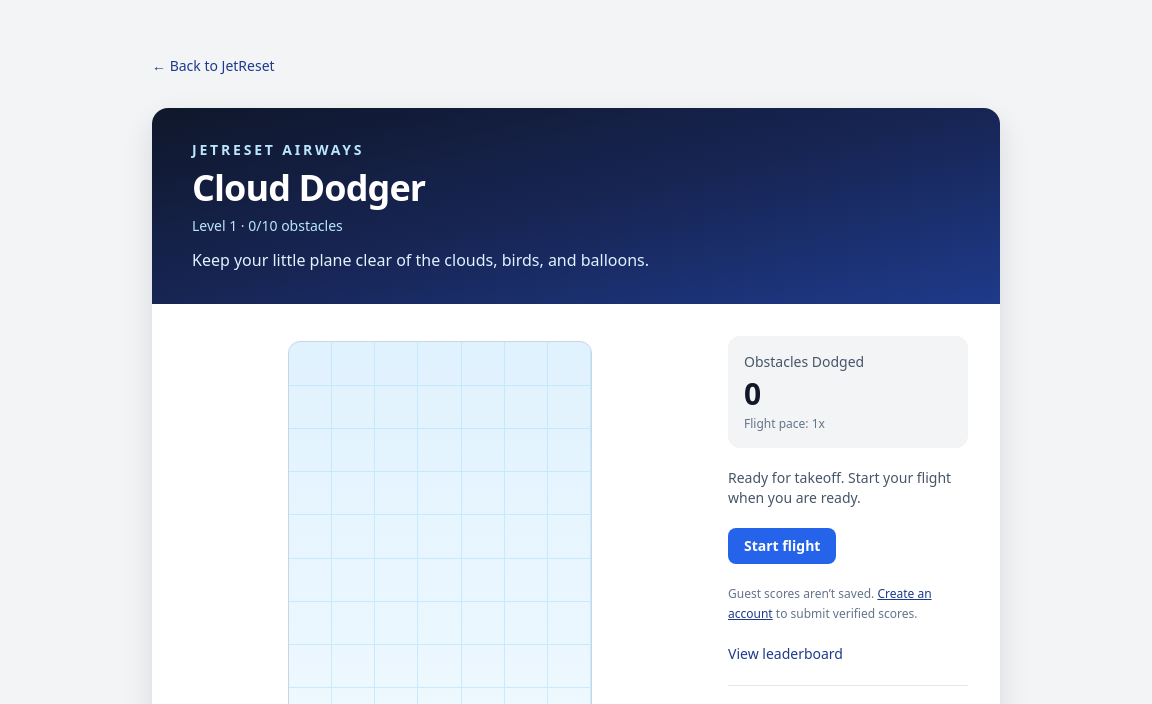
Scenario: PlaneGame › returns to level 1 after losing in level 2
The width and height of the screenshot is (1152, 704).
Click the button "Start flight".
click(782, 546)  # box top-left (728, 528), bottom-right (836, 564)
Wait 21000 ms
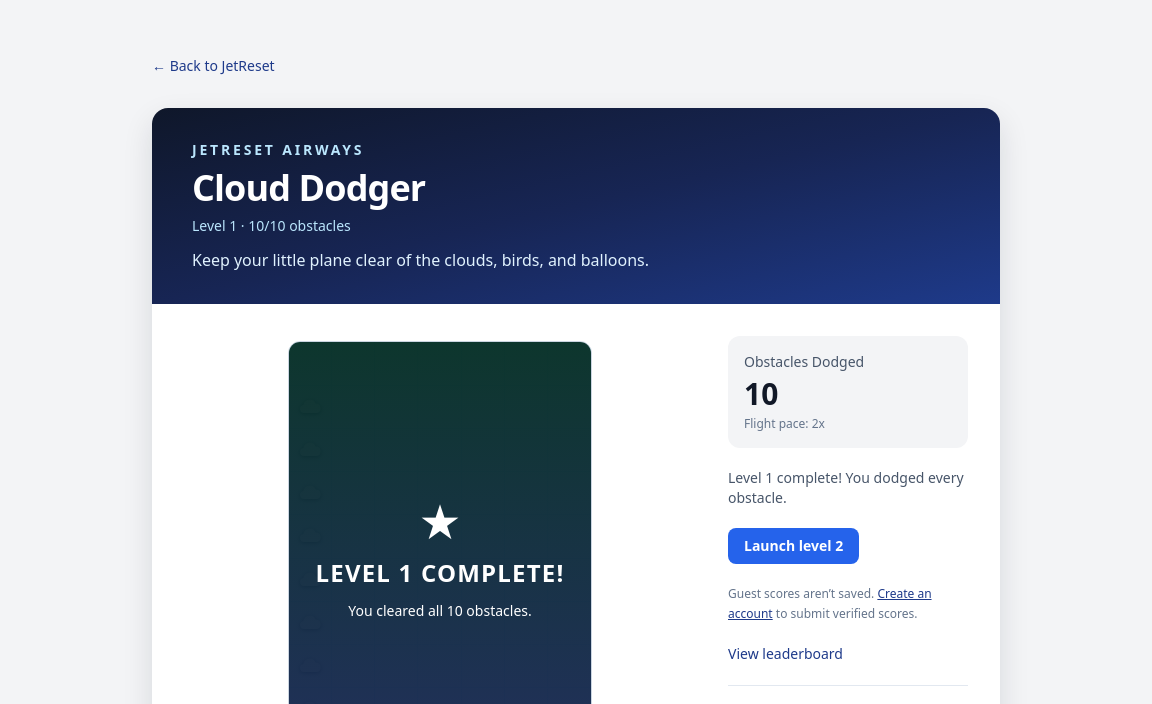
Click the button "Launch level 2".
click(794, 546)  # box top-left (728, 528), bottom-right (859, 564)
Wait 7000 ms
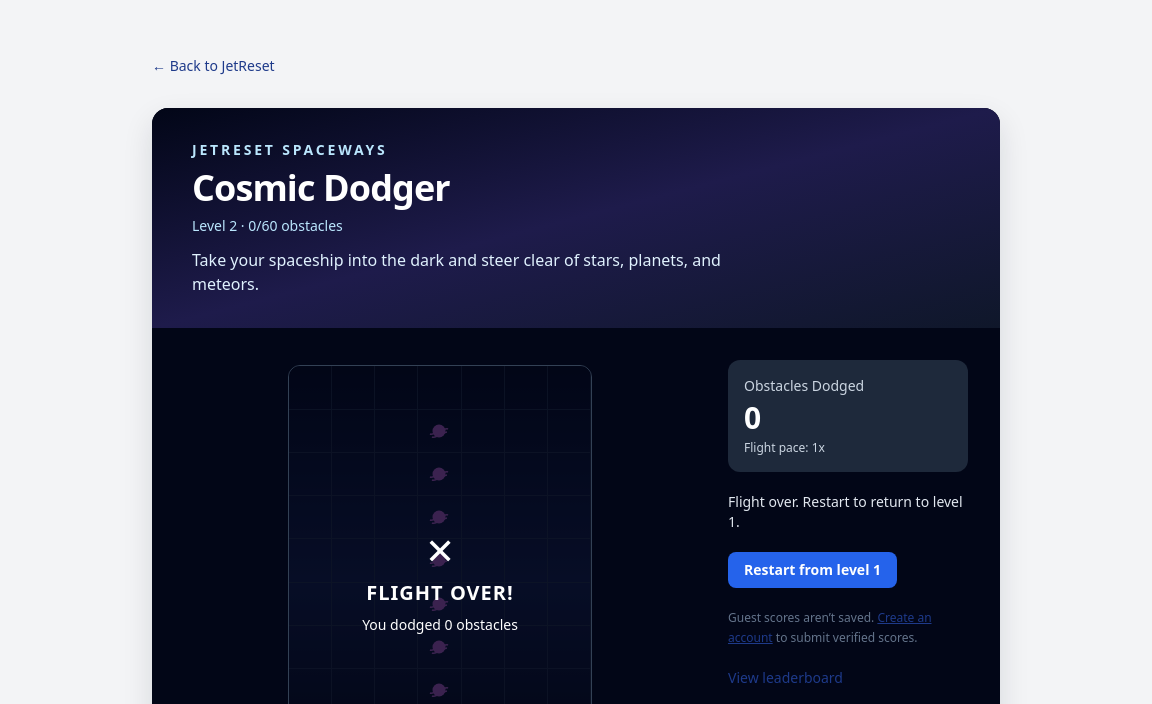
Check: the message shows "Restart to return to level 1", box top-left (728, 492), bottom-right (963, 531)
Click the button "Restart from level 1".
click(812, 570)  # box top-left (728, 552), bottom-right (897, 588)
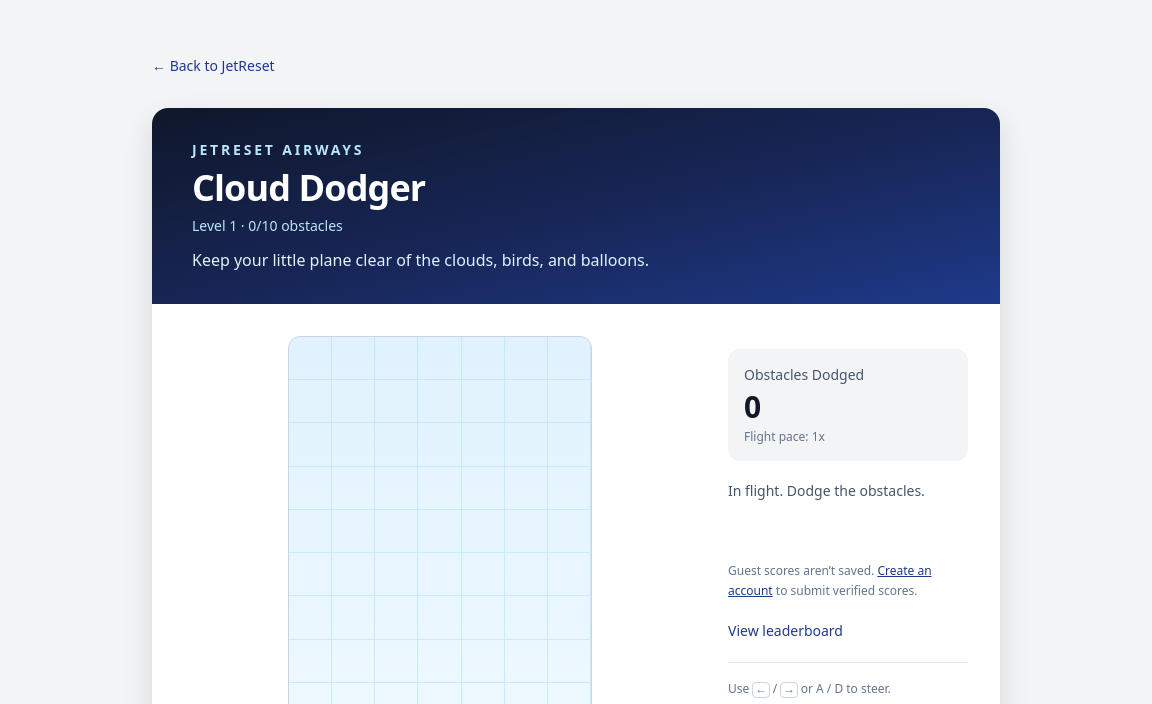
Check: the text "Level 1 · 0/10 obstacles" is shown, box top-left (192, 216), bottom-right (343, 235)
